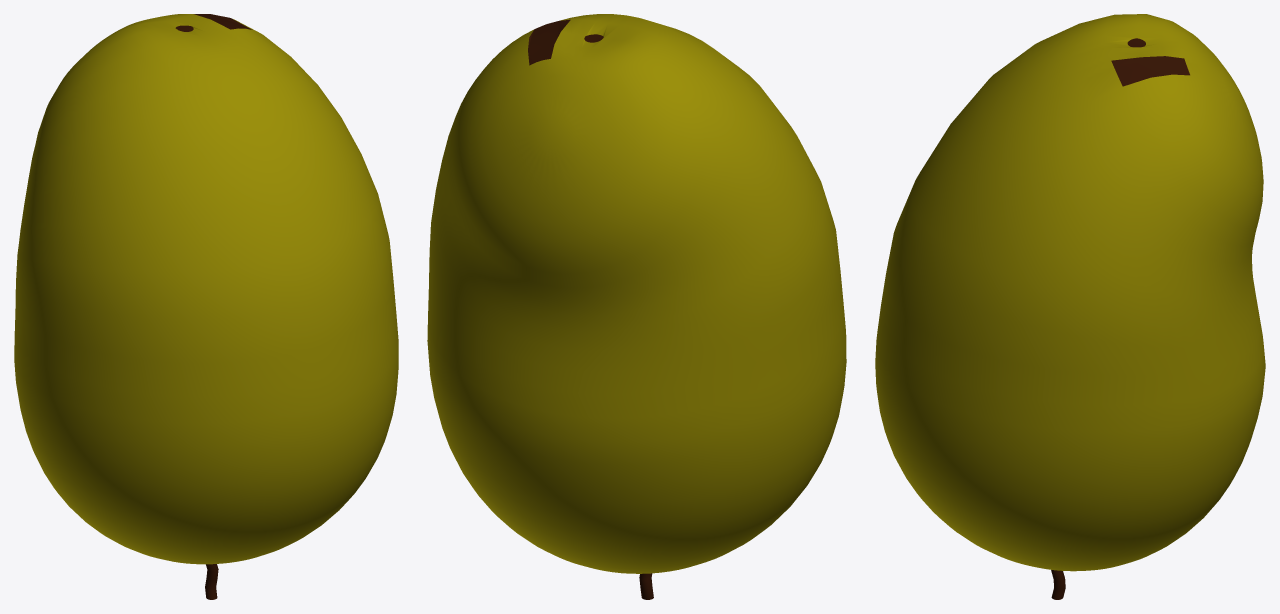
The model's file is Mango high poly.FBX.
The picture shows the model from 3 angles, left to right: view 1: azimuth 30°, elevation 25°; view 2: azimuth 150°, elevation 25°; view 3: azimuth 270°, elevation 25°; orthographic projection. The views are drawn at different scales.
Parts seen in each view (by area): view 1: Sphere001; view 2: Sphere001; view 3: Sphere001.
Boxes of the visible parts, x1,y1,x2,y2 form: Sphere001: (14, 14, 398, 599); Sphere001: (427, 14, 846, 599); Sphere001: (875, 14, 1265, 599).
Size of the model in its own units: 105 by 163 by 102.
